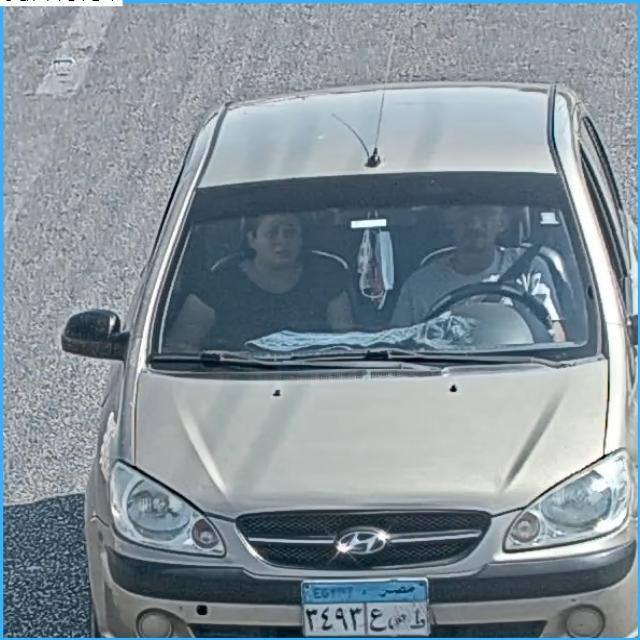windshield: (145, 186, 608, 364)
